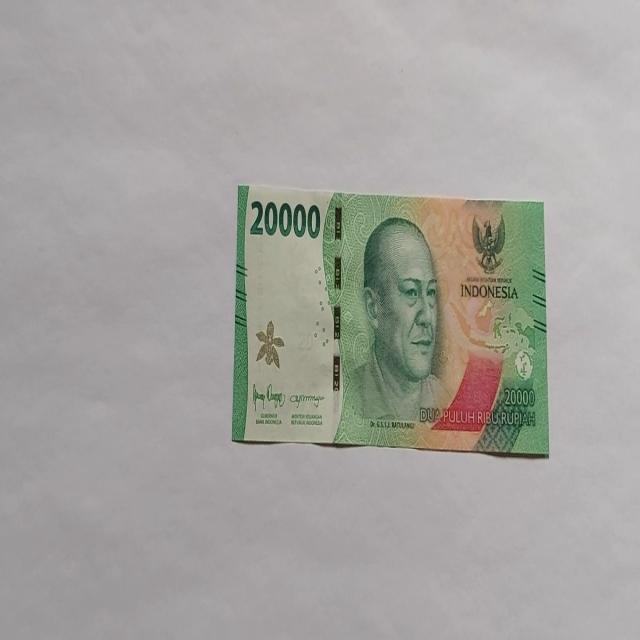dua puluh ribu rupiah: (231, 182, 549, 456), (341, 213, 454, 440)
